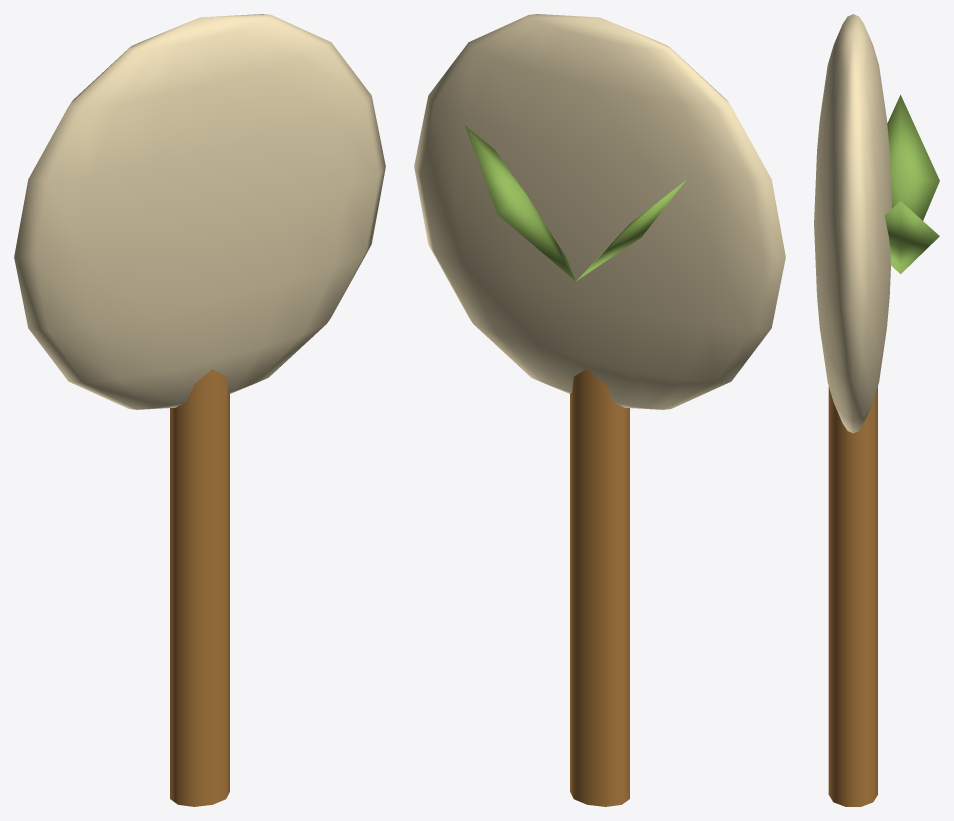
File: fertilized_marker.fbx
3 renders of one model, left to right at view 1: azimuth 30°, elevation 25°; view 2: azimuth 150°, elevation 25°; view 3: azimuth 270°, elevation 25°, orthographic. The views are drawn at different scales.
Parts seen in each view (by area): view 1: fertilized_marker; view 2: fertilized_marker; view 3: fertilized_marker.
Part boxes in pixels (x1,y1,x2,y2): fertilized_marker: (14,14,385,806); fertilized_marker: (414,14,785,806); fertilized_marker: (814,14,939,806).
Bounding box in the file's own units: 0.3 × 0.6 × 0.09.
1 material, 1 textured.
